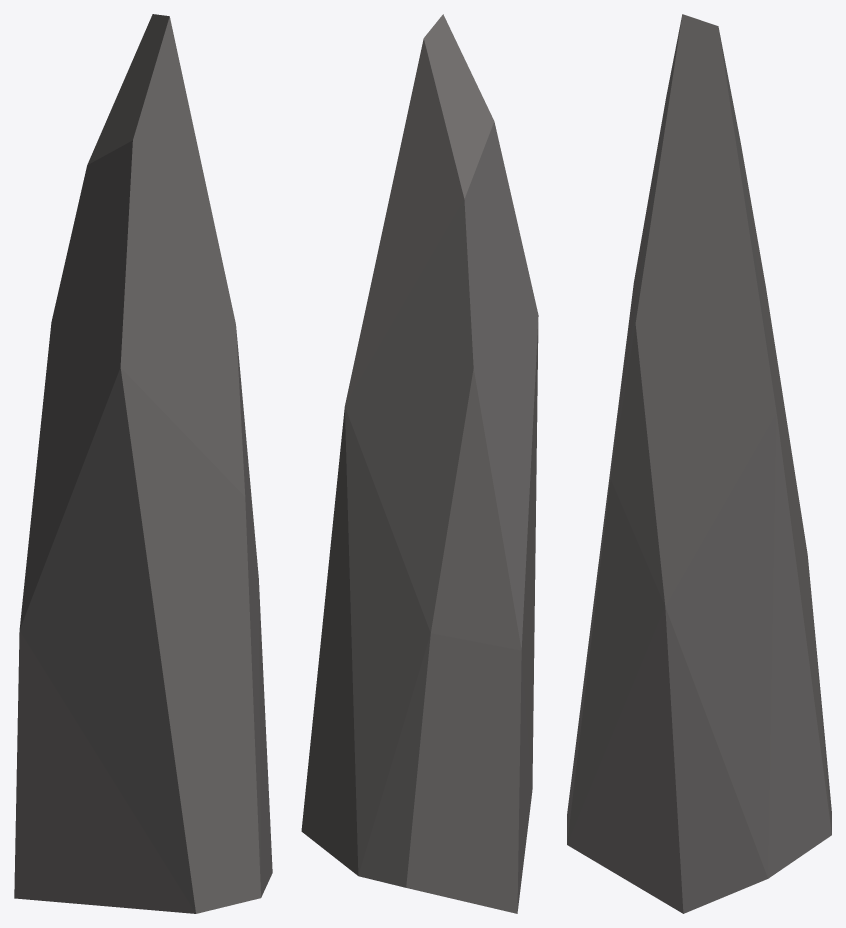
Rendered from Rock_Sharp_s_10.fbx.
The picture shows the model from 3 angles, left to right: view 1: azimuth 30°, elevation 25°; view 2: azimuth 150°, elevation 25°; view 3: azimuth 270°, elevation 25°; orthographic projection. The views are drawn at different scales.
Parts seen in each view (by area): view 1: Rock_Sharp_s_10; view 2: Rock_Sharp_s_10; view 3: Rock_Sharp_s_10.
Boxes of the visible parts, bbox=[...] form: Rock_Sharp_s_10: bbox=[14, 14, 272, 913]; Rock_Sharp_s_10: bbox=[301, 14, 538, 913]; Rock_Sharp_s_10: bbox=[567, 14, 831, 913].
Size of the model in its own units: 0.2257 by 0.8652 by 0.2439.
